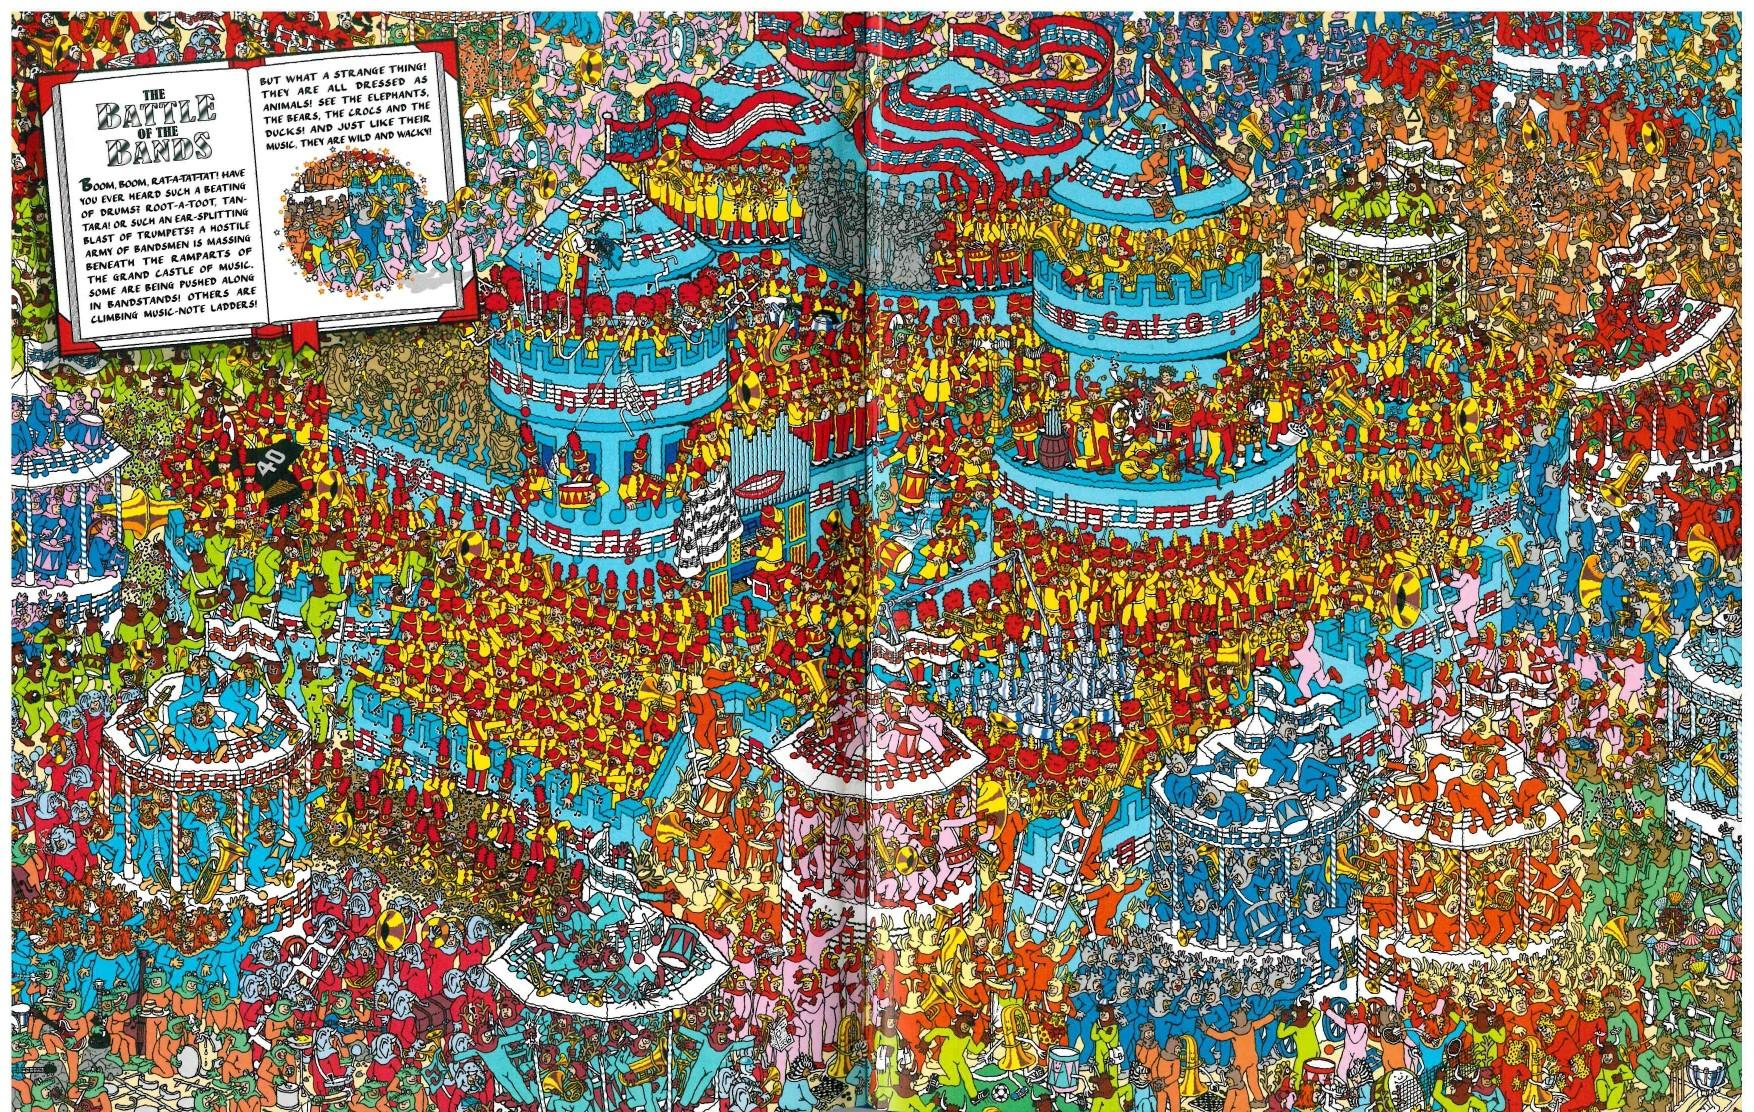waldos: (1648, 713, 1670, 748)
